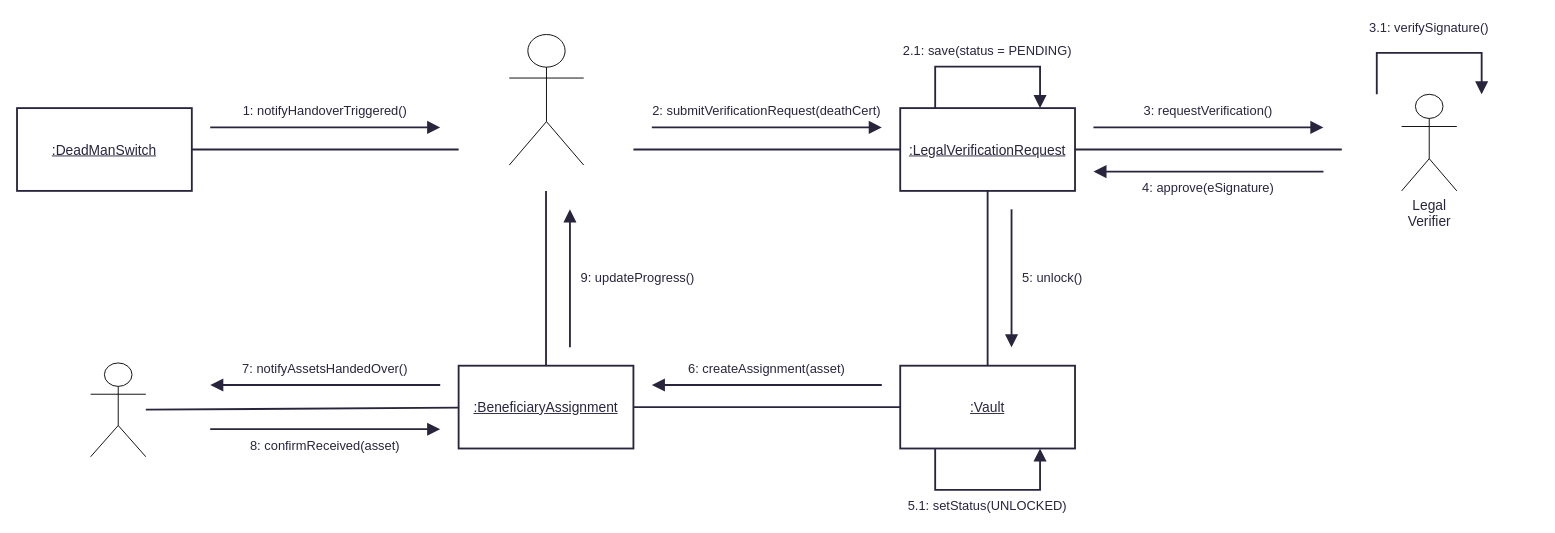
This 1555x533 diagram has some shape labels left out. Here are the shapes that lost their labels. From the top down, the box of each, then its label:
(508, 34, 584, 165): Digital Executor
(90, 362, 146, 457): Beneficiary
